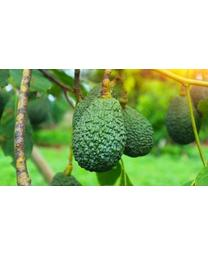avocado: (71, 96, 126, 173), (108, 101, 155, 157)
